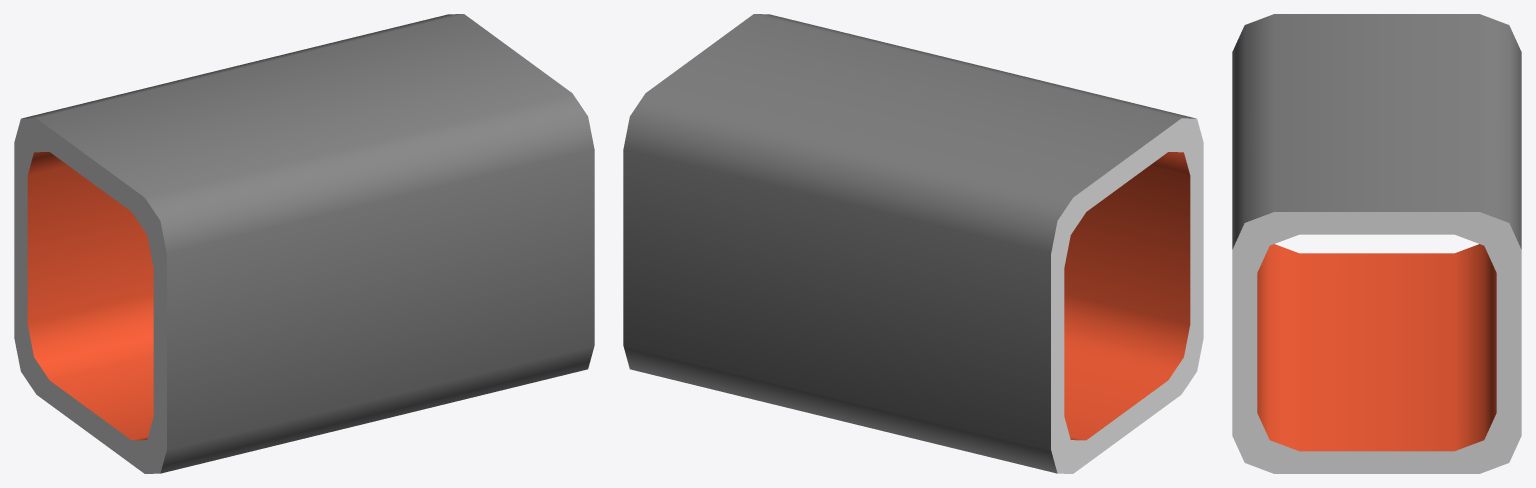
Rendered from O_tube_Knife_01.fbx.
The picture shows the model from 3 angles, left to right: view 1: azimuth 30°, elevation 25°; view 2: azimuth 150°, elevation 25°; view 3: azimuth 270°, elevation 25°; orthographic projection. The views are drawn at different scales.
Visible parts, largest first — view 1: Tube_knife_01; view 2: Tube_knife_01; view 3: Tube_knife_01.
Part boxes in pixels (<box>): Tube_knife_01: <box>14,14,594,473</box>; Tube_knife_01: <box>623,14,1203,473</box>; Tube_knife_01: <box>1232,14,1521,473</box>.
Size of the model in its own units: 1.3 by 0.8 by 0.8.
